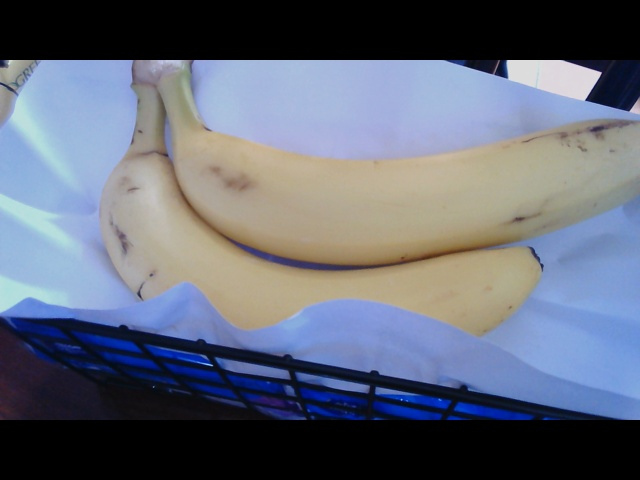banana: (73, 67, 640, 330)
